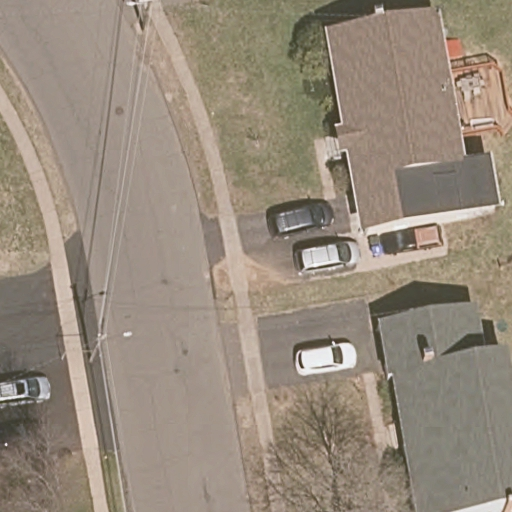DT: (87, 312, 133, 363), (125, 1, 157, 32)
